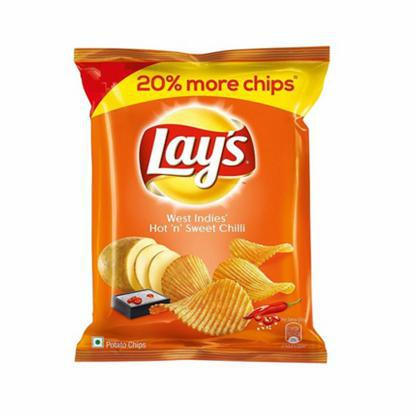hot_and_sweet: (75, 44, 331, 367)
